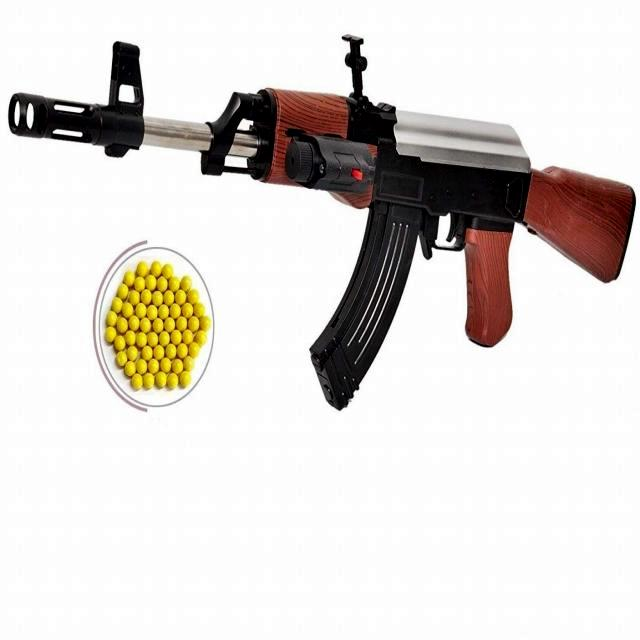ak: (0, 27, 640, 415)
